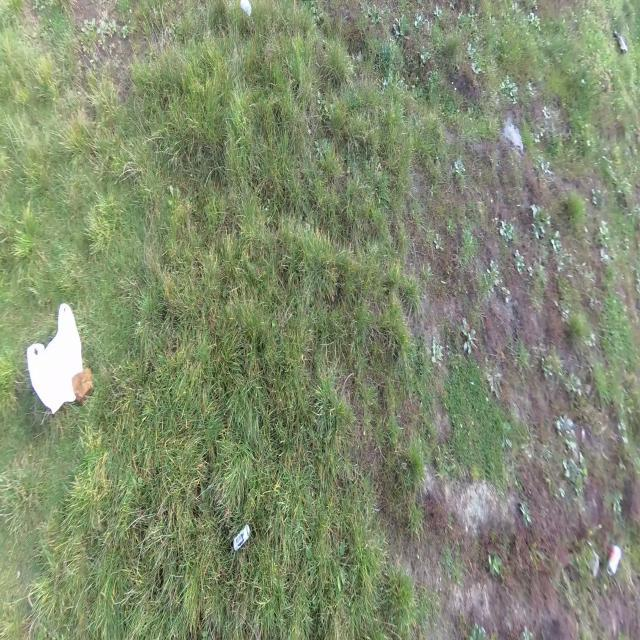rubbish: (25, 302, 82, 417), (605, 543, 622, 575), (233, 524, 250, 552), (613, 29, 629, 55), (240, 0, 252, 18)
